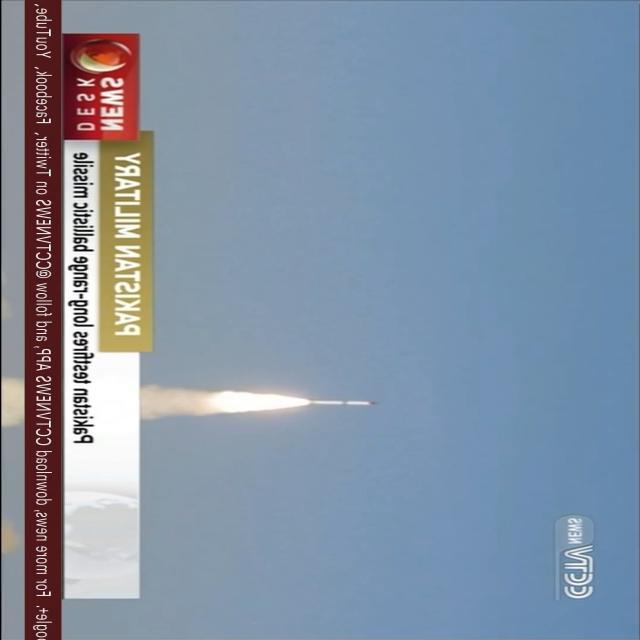missile: (296, 396, 385, 409)
